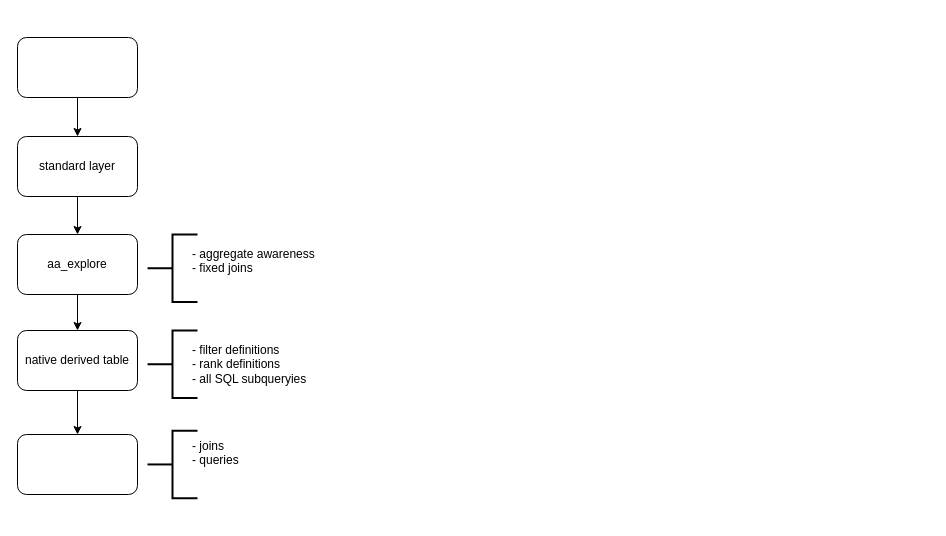
Some shapes in this 946 by 536 pixel diagram are drawn without their labels. The centre of each missing label's shape, as x and y in pixels:
autogenerated: (77,67)
final_explore: (77,464)
